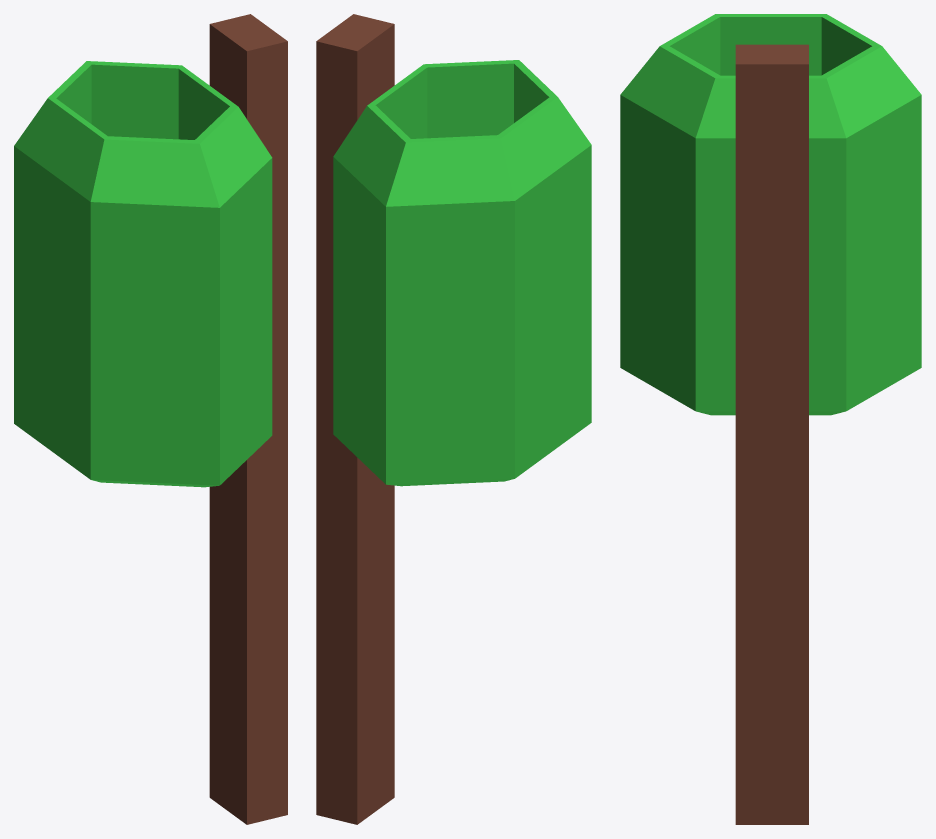
File: TrashGreen.fbx
3 renders of one model, left to right at view 1: azimuth 30°, elevation 25°; view 2: azimuth 150°, elevation 25°; view 3: azimuth 270°, elevation 25°, orthographic.
Parts seen in each view (by area): view 1: ThrashCan; view 2: ThrashCan; view 3: ThrashCan.
Part boxes in pixels (x1,y1,x2,y2): ThrashCan: [14, 14, 287, 824]; ThrashCan: [316, 14, 591, 824]; ThrashCan: [620, 14, 921, 824].
Bounding box in the file's own units: 229 × 778 × 279.
